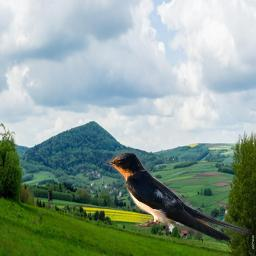Swallow: (102, 148, 252, 244)
